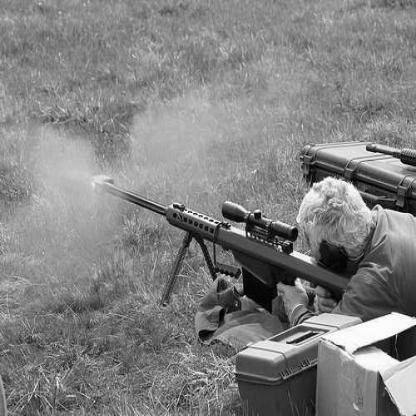rifle: (67, 150, 378, 363)
